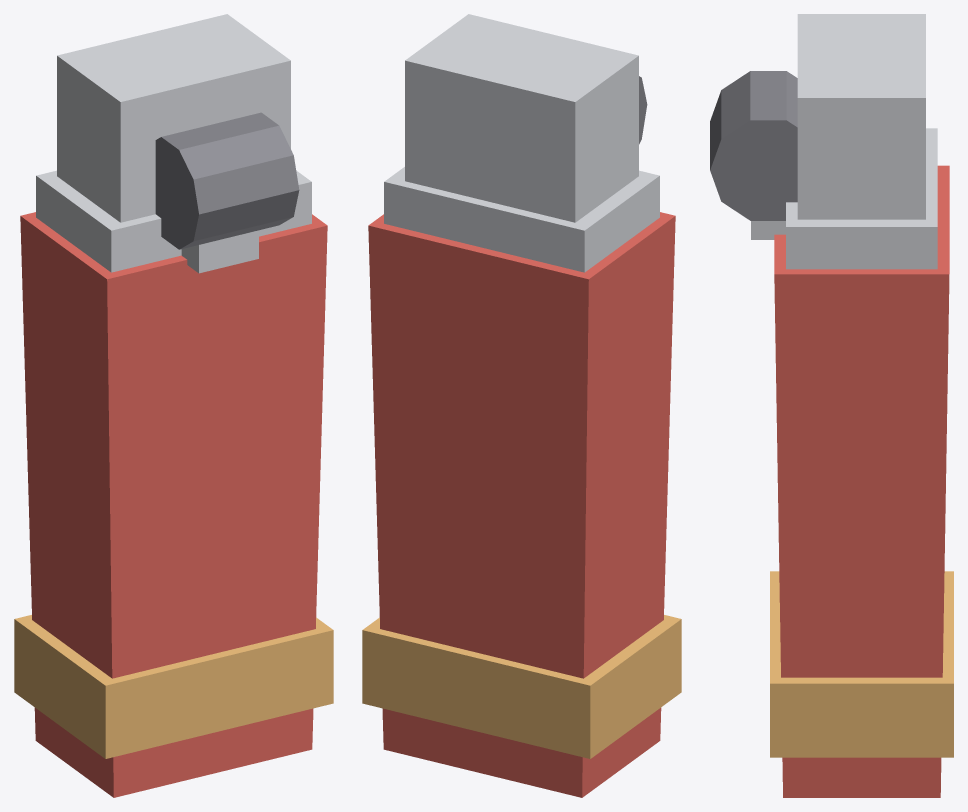
File: Lighter_AI.glb
The picture shows the model from 3 angles, left to right: view 1: azimuth 30°, elevation 25°; view 2: azimuth 150°, elevation 25°; view 3: azimuth 270°, elevation 25°; orthographic projection.
Parts seen in each view (by area): view 1: lighter; view 2: lighter; view 3: lighter.
Boxes of the visible parts, <box> form: lighter: <box>14,14,333,797</box>; lighter: <box>362,14,681,797</box>; lighter: <box>710,14,953,797</box>.
Bounding box in the file's own units: 0.455 × 1.31 × 0.4175.
